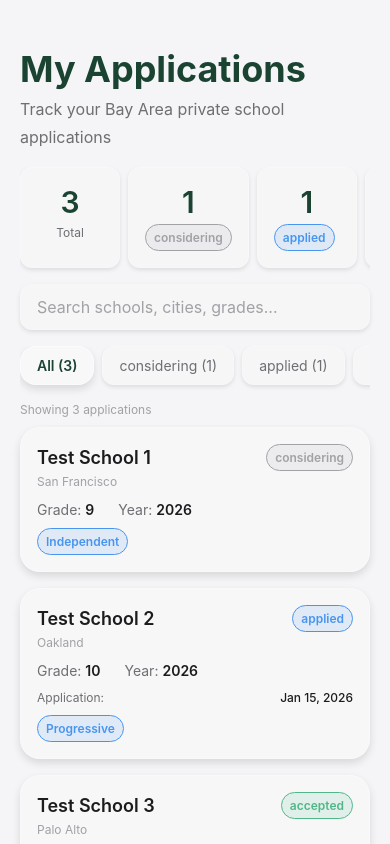
Test case: DashboardScreen › Filtering › should filter applications by status
Expected: the text "Test School 1" is shown, [37,447,151,468]
Note: Click on "applied" filter
Click the text "applied (1)".
click(293, 366)  # box [259,355,328,376]
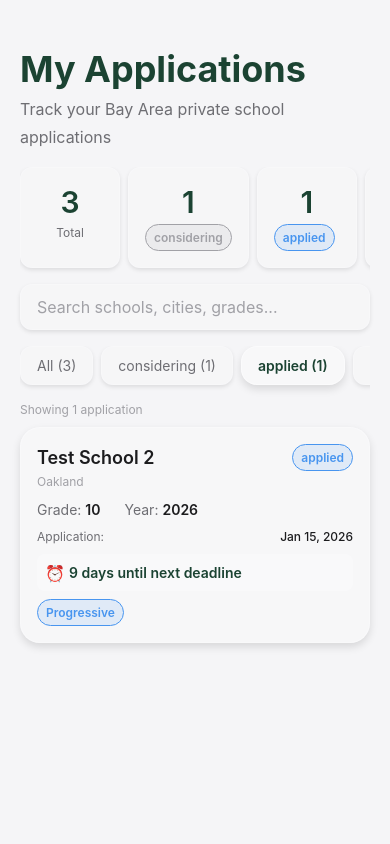
Expected: the text "Test School 2" is shown, [37,447,154,468]
Result: the text "Test School 1" is gone
Result: the text "Test School 3" is gone
